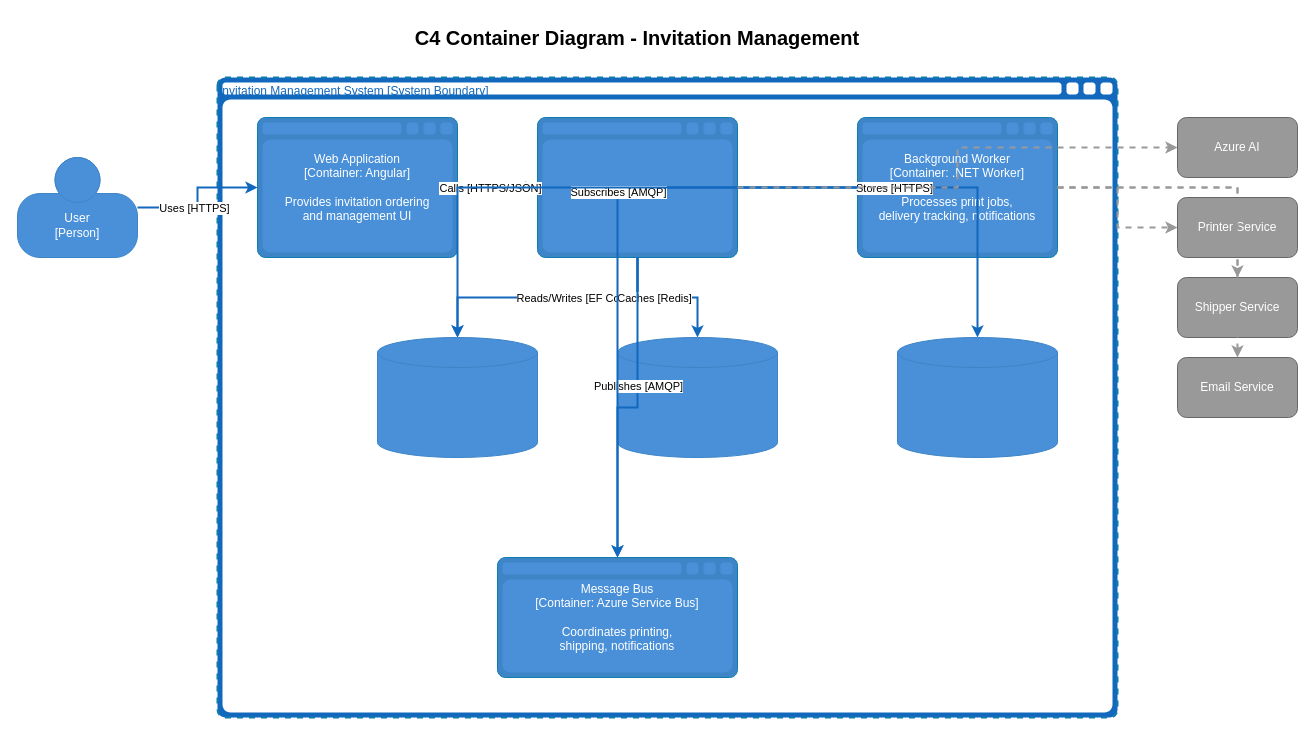
Image size: 1315x735. Some labels were removed from this diagram. The shapes that lost their labels are listed below. From the top down, each one's box as (x1, y1, x2, y2) in pixels, then its label:
(536, 116, 738, 258): API Application [Container: .NET 8 Web API] Provides invitation management API
(376, 336, 538, 458): Database [Container: Azure SQL] Stores orders, print jobs, deliveries, templates
(616, 336, 778, 458): Cache [Container: Azure Redis] Caches templates, order data
(896, 336, 1058, 458): Blob Storage [Container: Azure Blob] Stores designs, templates, digital versions
